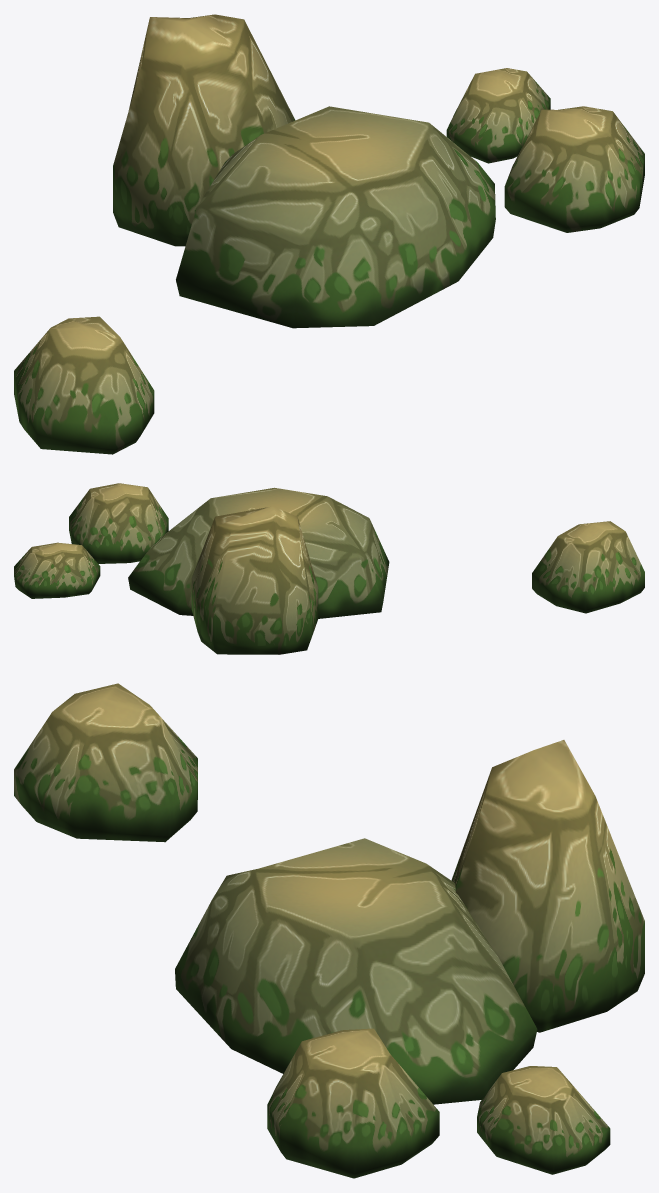
Rendered from Rock_Group.FBX.
3 views of the same model, one above another, from view 1: azimuth 30°, elevation 25°; view 2: azimuth 150°, elevation 25°; view 3: azimuth 270°, elevation 25° (orthographic). The views are drawn at different scales.
Visible parts, largest first — view 1: Rock_Group; view 2: Rock_Group; view 3: Rock_Group.
Part boxes in pixels (x1,y1,x2,y2): Rock_Group: [14, 14, 644, 454]; Rock_Group: [14, 483, 644, 654]; Rock_Group: [14, 683, 644, 1178].
Bounding box in the file's own units: 170 × 43.32 × 112.
